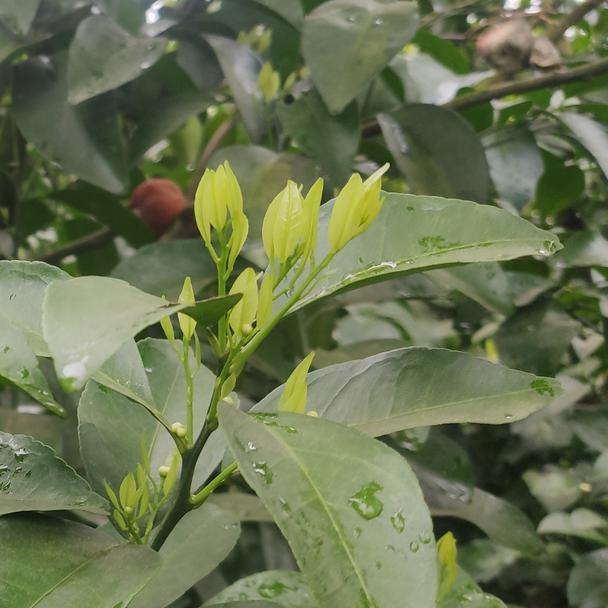shoot: (193, 165, 256, 276), (323, 170, 385, 266), (259, 184, 315, 287), (162, 285, 213, 379), (222, 279, 278, 364)
